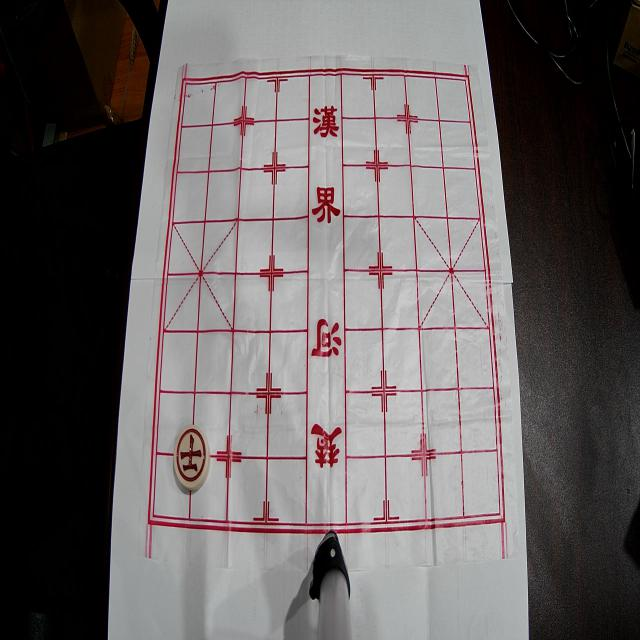red-guard: (174, 425, 210, 491)
